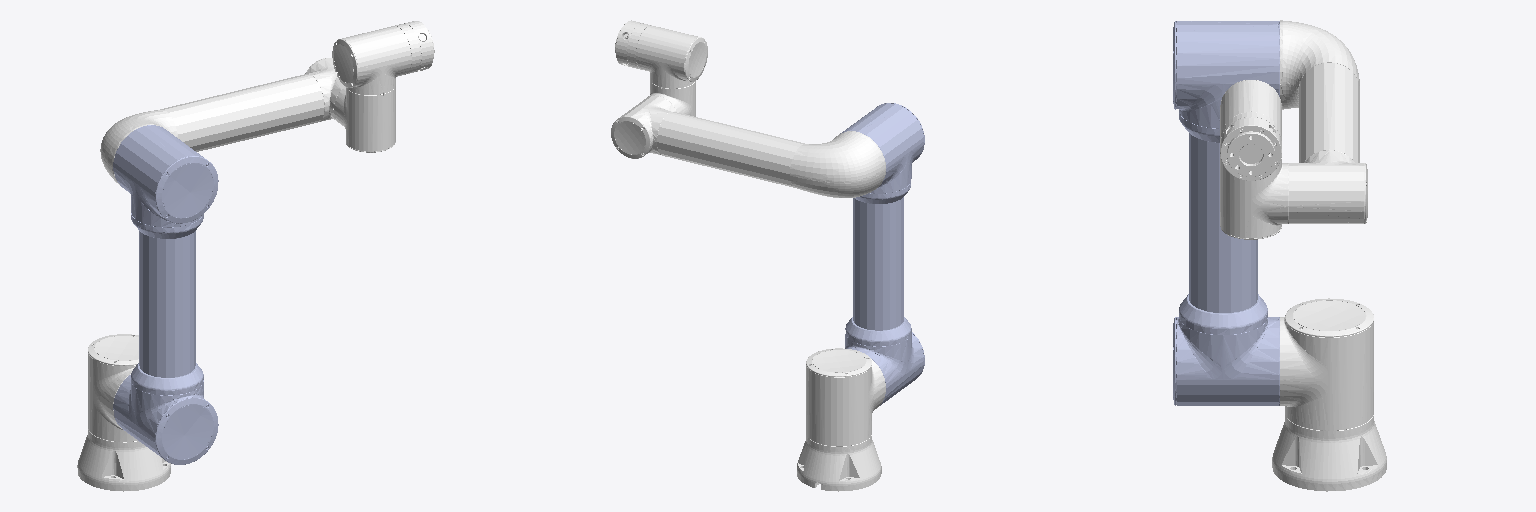
robot.urdf — fr5:
<?xml version="1.0"?>
<!-- This URDF was automatically created by SolidWorks to URDF Exporter! Originally created by [author] ([email redacted]) 
     Commit Version: 1.6.0-4-g7f85cfe  Build Version: 1.6.7995.38578
     For more information, please see http://wiki.ros.org/sw_urdf_exporter -->
<robot
  name="fr5">
  <link name="world">
   </link>
  <joint name="world_joint" type="fixed">
     <parent link="world"/>
     <child link="base_link"/>
   </joint>


  <link
    name="base_link">
    <inertial>
      <origin
        xyz="-1.57146172337919E-05 -0.000435365122183083 0.0424634245004599"
        rpy="0 0 0" />
      <mass
        value="0.00001" />
      <inertia
        ixx="10"
        ixy="1.88754347983146E-07"
        ixz="-3.66041315386659E-07"
        iyy="10"
        iyz="-9.75104451000269E-06"
        izz="10" />
    </inertial>
    <visual>
      <origin
        xyz="0 0 0"
        rpy="0 0 0" />
      <geometry>
        <mesh
          filename="package://fr5/meshes/visual/base_link.STL" />
      </geometry>
      <material
        name="">
        <color
          rgba="1 1 1 1" />
      </material>
    </visual>
    <collision>
      <origin
        xyz="0 0 0"
        rpy="0 0 0" />
      <geometry>
        <mesh
          filename="package://fr5/meshes/visual/base_link.STL" />
      </geometry>
    </collision>
  </link>


  <link
    name="link1">
    <inertial>
      <origin
        xyz="5.67396786943508E-07 -0.00409216793381309 -0.00570904142049659"
        rpy="0 0 0" />
      <mass
        value="0.00001" />
      <inertia
        ixx="10"
        ixy="3.57200897885875E-09"
        ixz="-1.43803663902304E-08"
        iyy="10"
        iyz="4.76832054212595E-05"
        izz="10" />
    </inertial>
    <visual>
      <origin
        xyz="0 0 0"
        rpy="0 0 0" />
      <geometry>
        <mesh
          filename="package://fr5/meshes/visual/link1.STL" />
      </geometry>
      <material
        name="">
        <color
          rgba="1 1 1 1" />
      </material>
    </visual>
    <collision>
      <origin
        xyz="0 0 0"
        rpy="0 0 0" />
      <geometry>
        <mesh
          filename="package://fr5/meshes/visual/link1.STL" />
      </geometry>
    </collision>
  </link>

  <joint
    name="joint1"
    type="revolute">
    <origin
      xyz="0 0 0.152"
      rpy="0 0 0" />
    <parent
      link="base_link" />
    <child
      link="link1" />
    <axis
      xyz="0 0 1" />
    <limit
      lower="-3.14"
      upper="3.14"
      effort="100"
      velocity="1.000001" />
  </joint>
  <link
    name="link2">
    <inertial>
      <origin
        xyz="5.41077579033211E-07 0.212500931770453 -0.00339227543362462"
        rpy="0 0 0" />
      <mass
        value="0.00001" />
      <inertia
        ixx="10"
        ixy="1.81732865627501E-08"
        ixz="1.08995826045288E-08"
        iyy="10"
        iyz="1.4239768292412E-09"
        izz="10" />
    </inertial>
    <visual>
      <origin
        xyz="0 0 0"
        rpy="0 0 0" />
      <geometry>
        <mesh
          filename="package://fr5/meshes/visual/link2.STL" />
      </geometry>
      <material
        name="">
        <color
          rgba="0.792156862745098 0.819607843137255 0.933333333333333 1" />
      </material>
    </visual>
    <collision>
      <origin
        xyz="0 0 0"
        rpy="0 0 0" />
      <geometry>
        <mesh
          filename="package://fr5/meshes/visual/link2.STL" />
      </geometry>
    </collision>
  </link>

  <joint
    name="joint2"
    type="revolute">
    <origin
      xyz="0 -0.138 0"
      rpy="1.5708 0 0" />
    <parent
      link="link1" />
    <child
      link="link2" />
    <axis
      xyz="0 0 1" />
    <limit
      lower="-3.14"
      upper="3.14"
      effort="100"
      velocity="1.00001" />
  </joint>

  <link
    name="link3">
    <inertial>
      <origin
        xyz="0.187972775768316 0.000124432268452934 -0.00664139078478469"
        rpy="0 0 0" />
      <mass
        value="0.00001" />
      <inertia
        ixx="10"
        ixy="-3.83191598387475E-05"
        ixz="-0.00254252016158266"
        iyy="10"
        iyz="-1.65789888806841E-06"
        izz="10" />
    </inertial>
    <visual>
      <origin
        xyz="0 0 0"
        rpy="0 0 0" />
      <geometry>
        <mesh
          filename="package://fr5/meshes/visual/link3.STL" />
      </geometry>
      <material
        name="">
        <color
          rgba="1 1 1 1" />
      </material>
    </visual>
    <collision>
      <origin
        xyz="0 0 0"
        rpy="0 0 0" />
      <geometry>
        <mesh
          filename="package://fr5/meshes/visual/link3.STL" />
      </geometry>
    </collision>
  </link>

  <joint
    name="joint3"
    type="revolute">
    <origin
      xyz="0 0.425 -0.1378"
      rpy="-3.1416 0 0" />
    <parent
      link="link2" />
    <child
      link="link3" />
    <axis
      xyz="0 0 1" />
    <limit
      lower="-3.14"
      upper="3.14"
      effort="100"
      velocity="1.00001" />
  </joint>

  <link
    name="link4">
    <inertial>
      <origin
        xyz="1.56230483916442E-06 0.00373777612703224 -0.00494394130159936"
        rpy="0 0 0" />
      <mass
        value="0.00001" />
      <inertia
        ixx="10"
        ixy="-1.46847459142937E-07"
        ixz="-2.37708817172483E-08"
        iyy="10"
        iyz="-1.39856231213147E-05"
        izz="10" />
    </inertial>
    <visual>
      <origin
        xyz="0 0 0"
        rpy="0 0 0" />
      <geometry>
        <mesh
          filename="package://fr5/meshes/visual/link4.STL" />
      </geometry>
      <material
        name="">
        <color
          rgba="1 1 1 1" />
      </material>
    </visual>
    <collision>
      <origin
        xyz="0 0 0"
        rpy="0 0 0" />
      <geometry>
        <mesh
          filename="package://fr5/meshes/visual/link4.STL" />
      </geometry>
    </collision>
  </link>

  <joint
    name="joint4"
    type="revolute">
    <origin
      xyz="0.39501 0.00025433 -0.1018"
      rpy="3.1416 0 0" />
    <parent
      link="link3" />
    <child
      link="link4" />
    <axis
      xyz="0 0 1" />
    <limit
      lower="-3.14"
      upper="3.14"
      effort="100"
      velocity="1.00001" />
  </joint>

  <link
    name="link5">
    <inertial>
      <origin
        xyz="0.00384247521078729 -8.88720623898331E-07 0.00374402988091421"
        rpy="0 0 0" />
      <mass
        value="0.00001" />
      <inertia
        ixx="10"
        ixy="5.20997145924372E-10"
        ixz="1.04647966030453E-05"
        iyy="10"
        iyz="1.31048676333874E-08"
        izz="10" />
    </inertial>
    <visual>
      <origin
        xyz="0 0 0"
        rpy="0 0 0" />
      <geometry>
        <mesh
          filename="package://fr5/meshes/visual/link5.STL" />
      </geometry>
      <material
        name="">
        <color
          rgba="1 1 1 1" />
      </material>
    </visual>
    <collision>
      <origin
        xyz="0 0 0"
        rpy="0 0 0" />
      <geometry>
        <mesh
          filename="package://fr5/meshes/visual/link5.STL" />
      </geometry>
    </collision>
  </link>

  <joint
    name="joint5"
    type="revolute">
    <origin
      xyz="6.5538E-05 0.1018 0"
      rpy="1.5708 0 0" />
    <parent
      link="link4" />
    <child
      link="link5" />
    <axis
      xyz="-0.00064375 0 1" />
    <limit
      lower="-3.14"
      upper="3.14"
      effort="100"
      velocity="1.000001" />
  </joint>

  <link
    name="link6">
    <inertial>
      <origin
        xyz="-0.000208312601059024 2.70063157813971E-05 -0.0233743101947179"
        rpy="0 0 0" />
      <mass
        value="0.00001" />
      <inertia
        ixx="10"
        ixy="1.14833303973672E-07"
        ixz="1.45795488298405E-07"
        iyy="10"
        iyz="-1.05008035353933E-07"
        izz="10" />
    </inertial>
    <visual>
      <origin
        xyz="0 0 0"
        rpy="0 0 0" />
      <geometry>
        <mesh
          filename="package://fr5/meshes/visual/link6.STL" />
      </geometry>
      <material
        name="">
        <color
          rgba="1 1 1 1" />
      </material>
    </visual>
    <collision>
      <origin
        xyz="0 0 0"
        rpy="0 0 0" />
      <geometry>
        <mesh
          filename="package://fr5/meshes/visual/link6.STL" />
      </geometry>
    </collision>
  </link>

  <joint
    name="joint6"
    type="revolute">
    <origin
      xyz="0.0998 0 6.4246E-05"
      rpy="-1.5708 0 -1.5708" />
    <parent
      link="link5" />
    <child
      link="link6" />
    <axis
      xyz="0 -0.00064375 1" />
    <limit
      lower="-3.14"
      upper="3.14"
      effort="100"
      velocity="1.000001" />
  </joint>
</robot>

--- Render facts (derived) ---
3 views of the same robot in one strip: view 1: azimuth 30°, elevation 25°; view 2: azimuth 150°, elevation 25°; view 3: azimuth 270°, elevation 25° (orthographic).
Robot: fr5 — 8 links, 7 joints (6 revolute, 1 fixed); root link world; default pose: every joint at zero.
Links seen in each view (by area): view 1: link2, link3, link5, base_link, link1, link4, link6; view 2: link2, link3, link1, base_link, link5, link6, link4; view 3: link2, link3, link1, base_link, link4, link6, link5.
Boxes of the visible links, x1=… form: link2: x1=113, y1=125, x2=218, y2=464; link3: x1=100, y1=58, x2=344, y2=184; link5: x1=332, y1=26, x2=411, y2=94; base_link: x1=77, y1=429, x2=170, y2=491; link1: x1=88, y1=334, x2=138, y2=441; link4: x1=334, y1=86, x2=395, y2=152; link6: x1=395, y1=21, x2=434, y2=74; link2: x1=840, y1=103, x2=924, y2=405; link3: x1=611, y1=96, x2=885, y2=197; link1: x1=806, y1=348, x2=885, y2=446; base_link: x1=797, y1=435, x2=881, y2=491; link5: x1=636, y1=25, x2=707, y2=88; link6: x1=615, y1=20, x2=650, y2=69; link4: x1=647, y1=80, x2=695, y2=116; link2: x1=1173, y1=21, x2=1279, y2=405; link3: x1=1280, y1=20, x2=1367, y2=223; link1: x1=1280, y1=298, x2=1373, y2=430; base_link: x1=1272, y1=415, x2=1386, y2=491; link4: x1=1220, y1=157, x2=1288, y2=239; link6: x1=1220, y1=112, x2=1281, y2=180; link5: x1=1220, y1=80, x2=1281, y2=157.
Bounding box of the posed robot: 0.5693 × 0.2778 × 0.7186 m (x, y, z).
7 mesh visuals loaded from 7 distinct referenced files (7 binary STL).